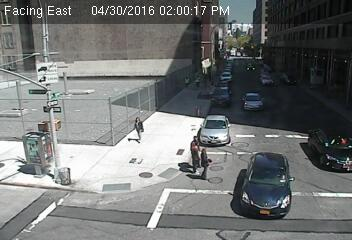neg: (22, 164, 41, 189), (290, 102, 305, 123), (333, 126, 348, 146), (241, 56, 256, 75), (39, 68, 54, 87), (131, 70, 145, 88), (10, 212, 22, 228), (316, 180, 328, 196), (84, 154, 95, 169), (236, 38, 247, 51)
pos: (194, 146, 220, 181), (184, 134, 206, 164), (185, 142, 206, 171), (127, 115, 147, 142)
